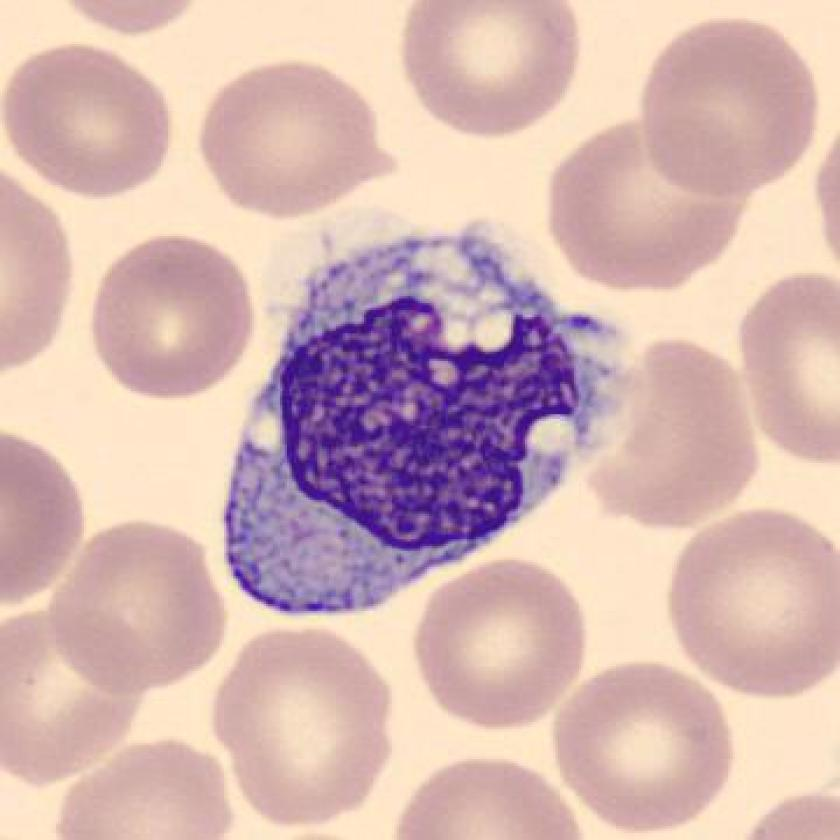monocyte: (199, 207, 631, 651)
